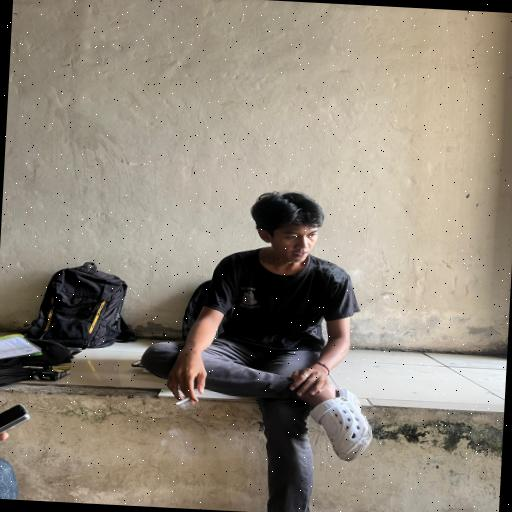pegang rokok: (164, 357, 214, 416)
